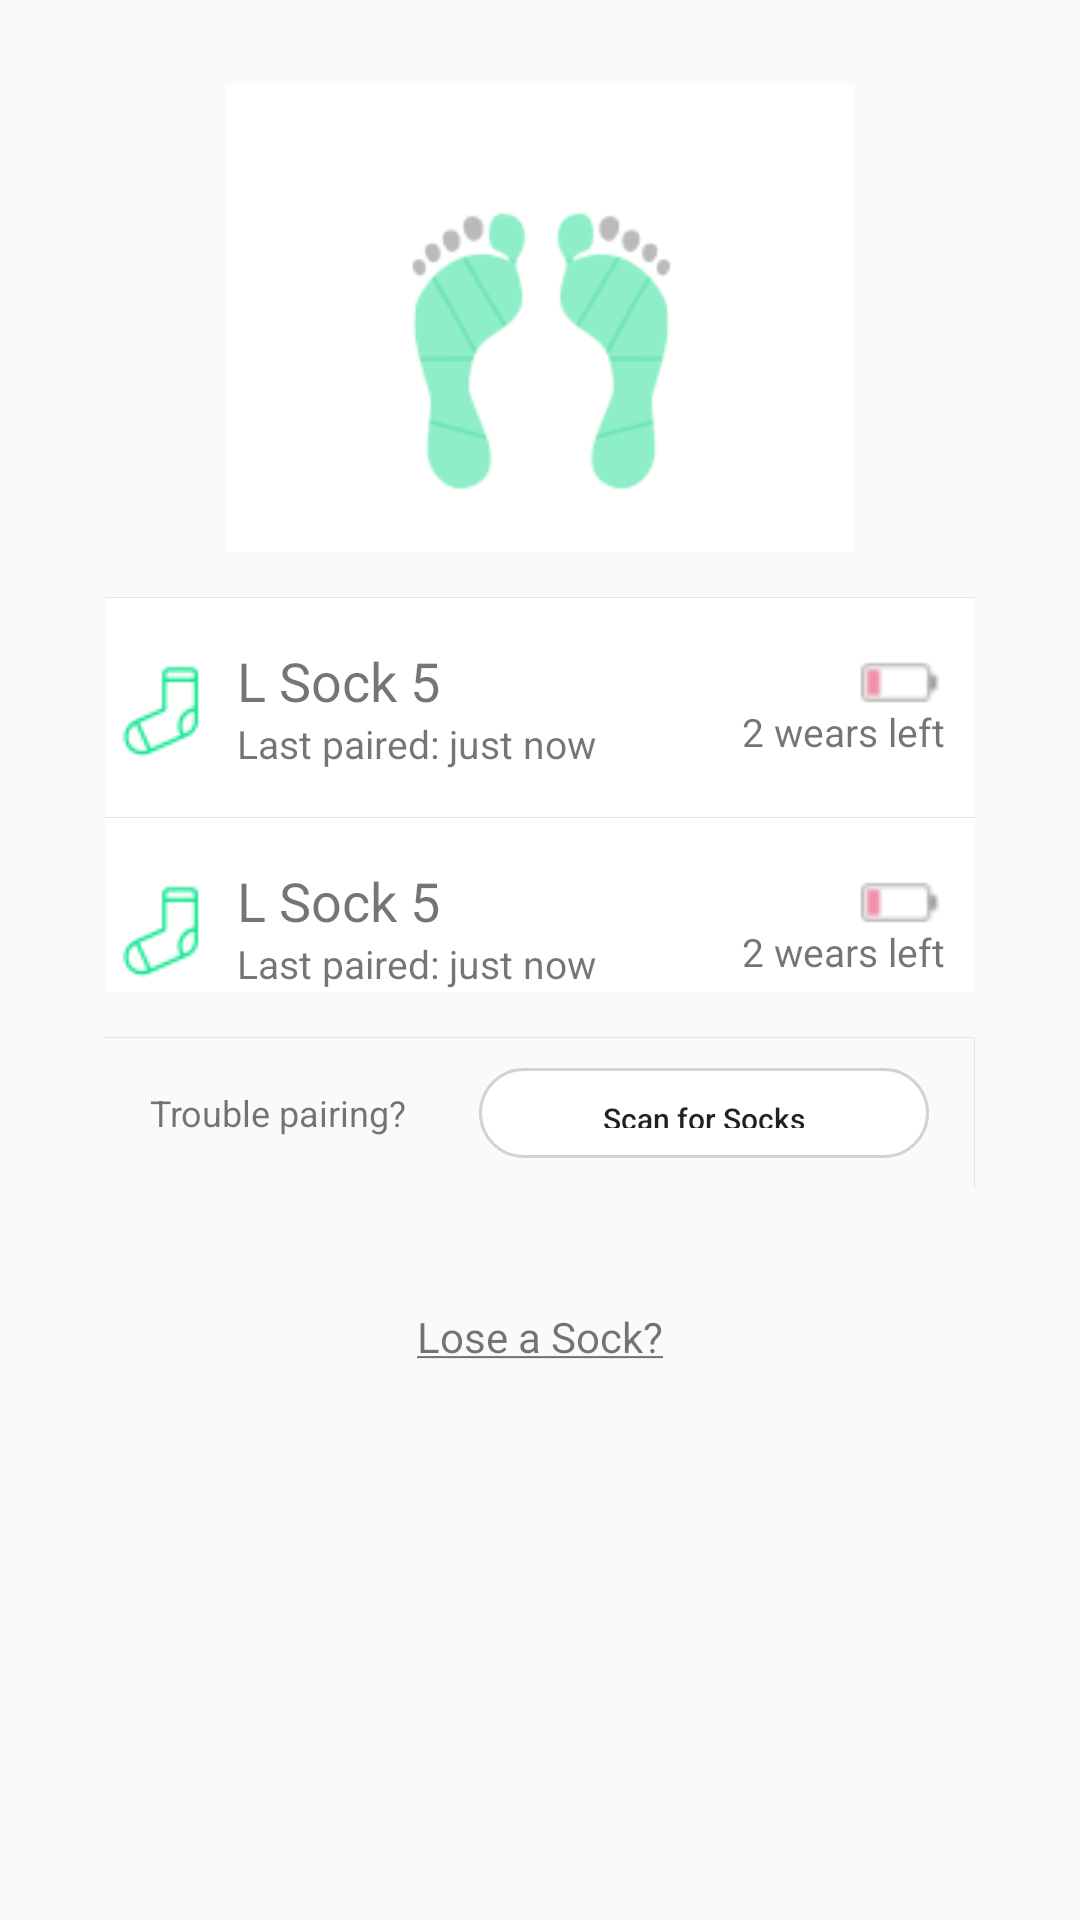

Point at icon controls on the screen. Image size 1080x1920, points as (x=x, y=y).
batter ex: (x=899, y=682), (x=899, y=902)
feet good: (x=541, y=351)
